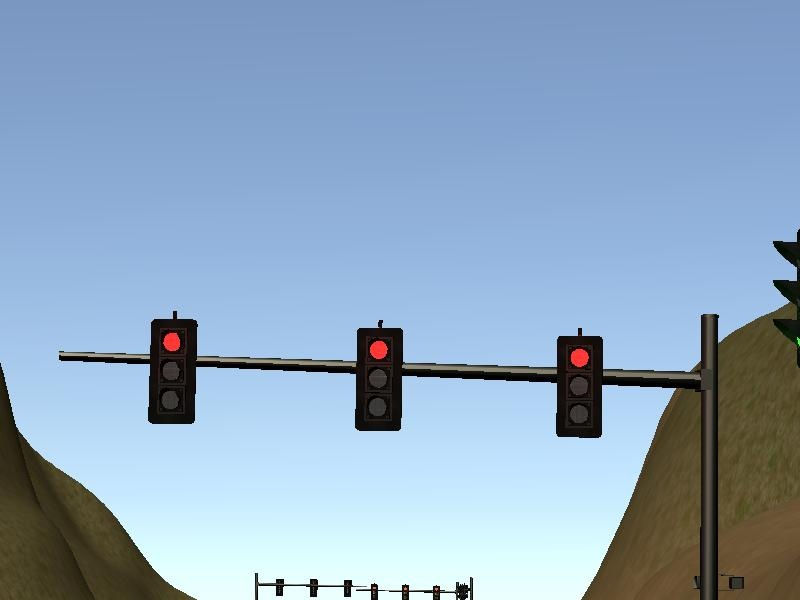RED: (355, 329, 403, 431), (555, 335, 603, 437), (148, 320, 195, 424)
